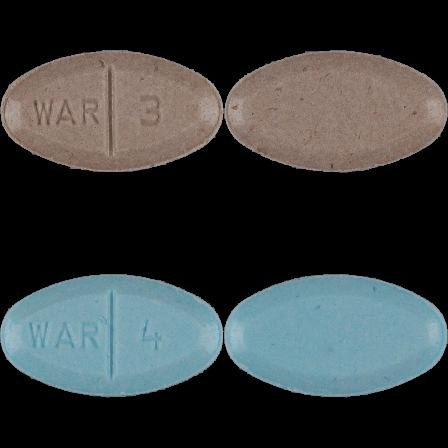68382-054: (0, 0, 224, 224)
